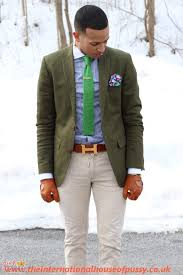F_belt: (60, 139, 114, 159)
F_tie: (79, 58, 99, 146)
